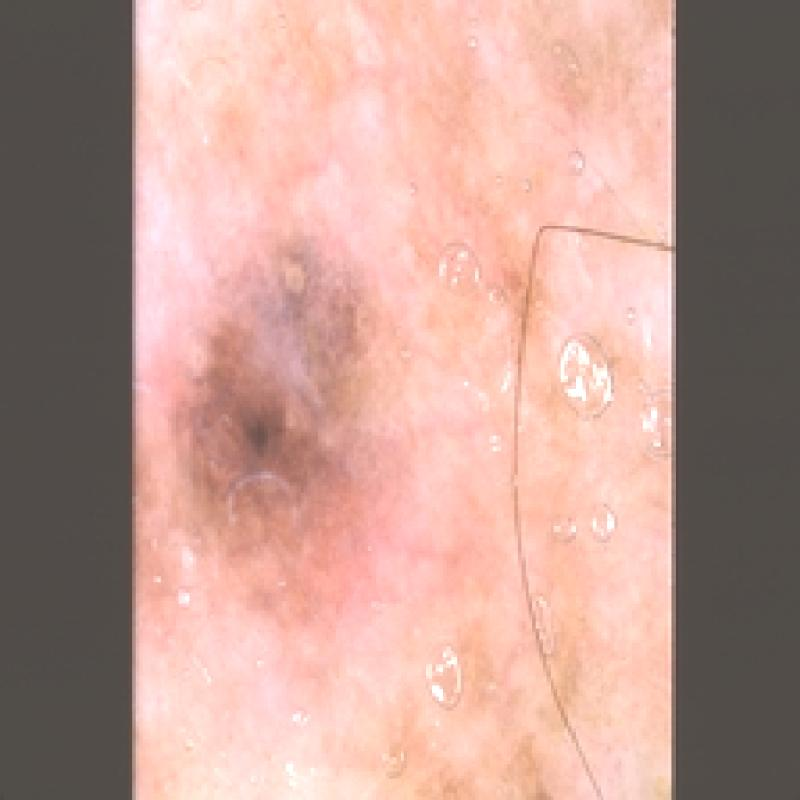malignant: (133, 160, 467, 672)
